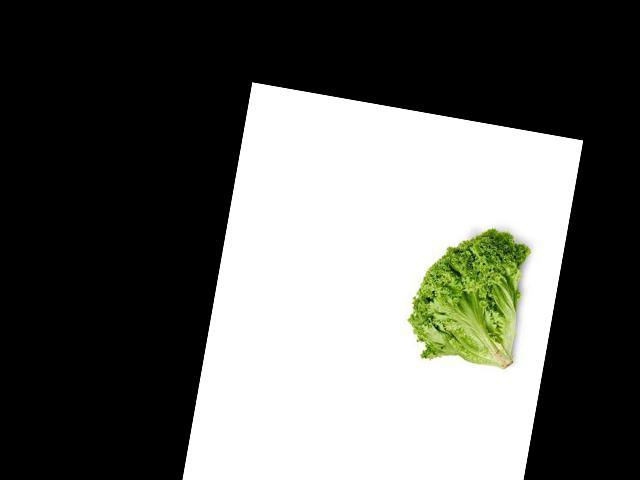lettuce: (398, 241, 540, 352)
